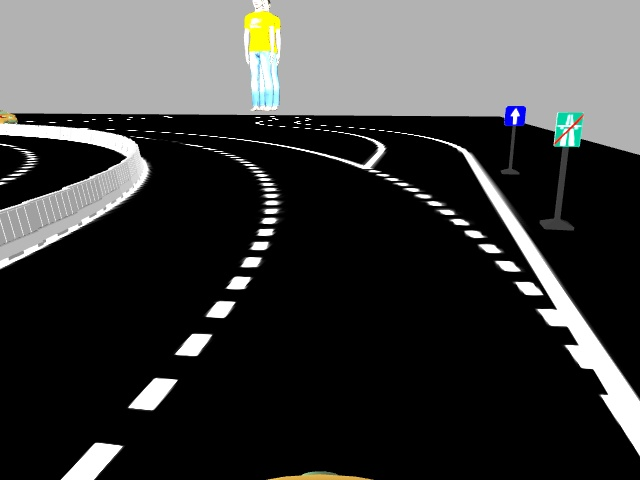HighwayExit: (555, 111, 580, 146)
OneWay: (503, 105, 525, 126)
